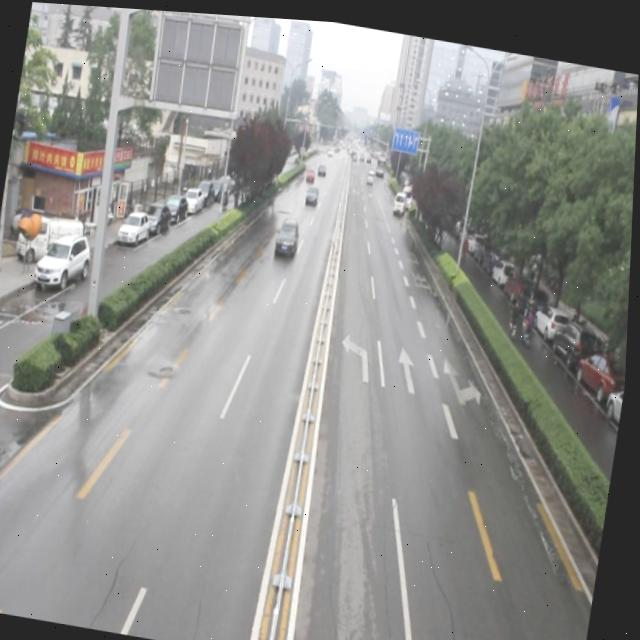car: (274, 211, 303, 255), (304, 179, 321, 202)
truck: (392, 182, 408, 213)
